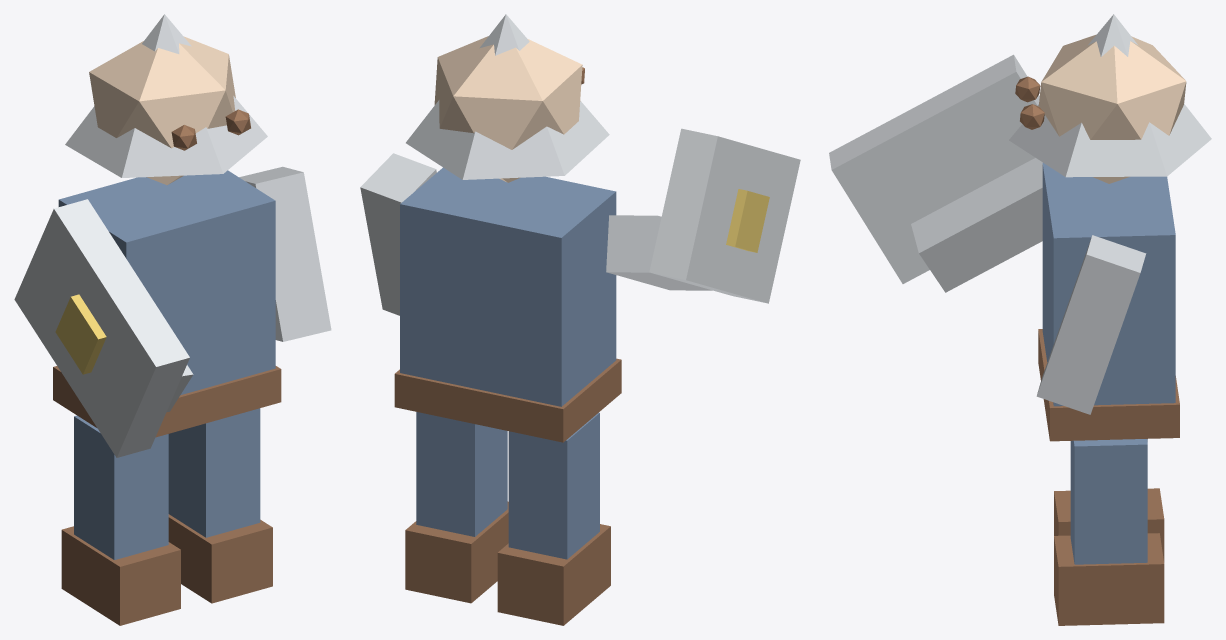
Rendered from npcpose_guard_idle_05.glb.
3 views of the same model, side by side, from view 1: azimuth 30°, elevation 25°; view 2: azimuth 150°, elevation 25°; view 3: azimuth 270°, elevation 25° (orthographic).
Visible parts, largest first — view 1: npcpose; view 2: npcpose; view 3: npcpose.
Part boxes in pixels (x1=…): npcpose: x1=14, y1=14, x2=331, y2=625; npcpose: x1=360, y1=14, x2=800, y2=625; npcpose: x1=829, y1=14, x2=1211, y2=625.
Bounding box in the file's own units: 0.8585 × 1.55 × 0.9395.
